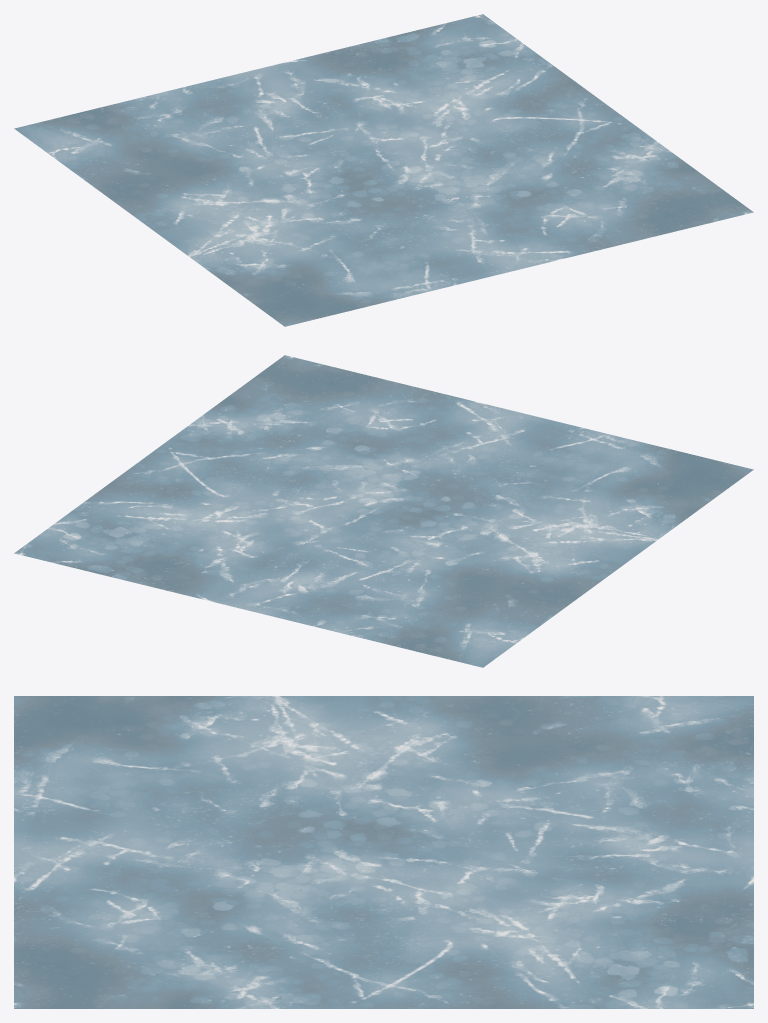
File: ground.gltf
3 views of the same model, one above another, from view 1: azimuth 30°, elevation 25°; view 2: azimuth 150°, elevation 25°; view 3: azimuth 270°, elevation 25° (orthographic). The views are drawn at different scales.
Visible parts, largest first — view 1: pPlane1; view 2: pPlane1; view 3: pPlane1.
Part boxes in pixels (<box>): pPlane1: <box>14,14,753,326</box>; pPlane1: <box>14,355,753,667</box>; pPlane1: <box>14,696,753,1008</box>.
Size of the model in its own units: 166 by 3.68e-14 by 166.
1 material, 1 textured.
